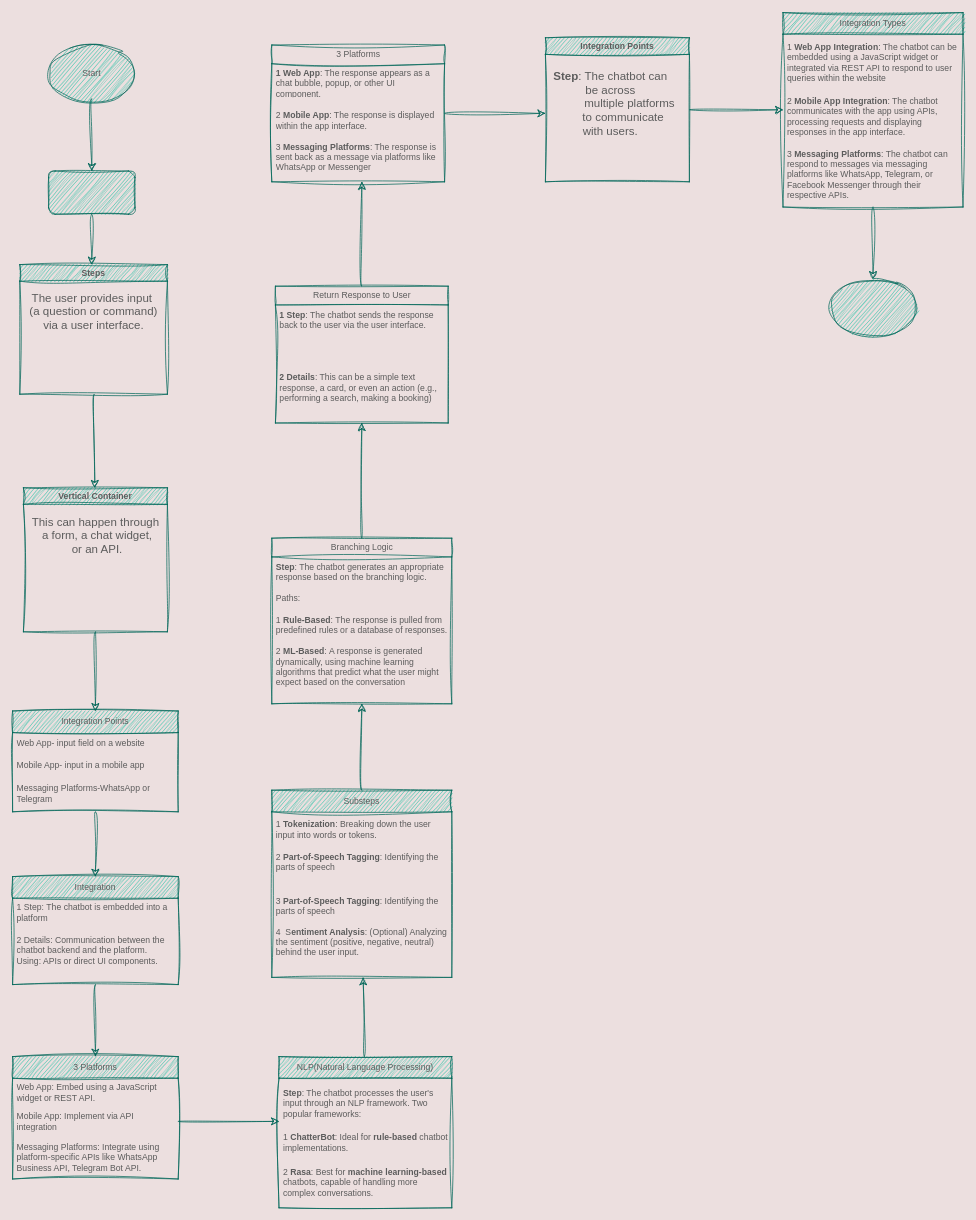
Some shapes in this 976 by 1220 pixel diagram are drawn without their labels. Each missing label, with the centre of its shape:
"End" belongs at (872,307).
"User Input" belongs at (91,192).
